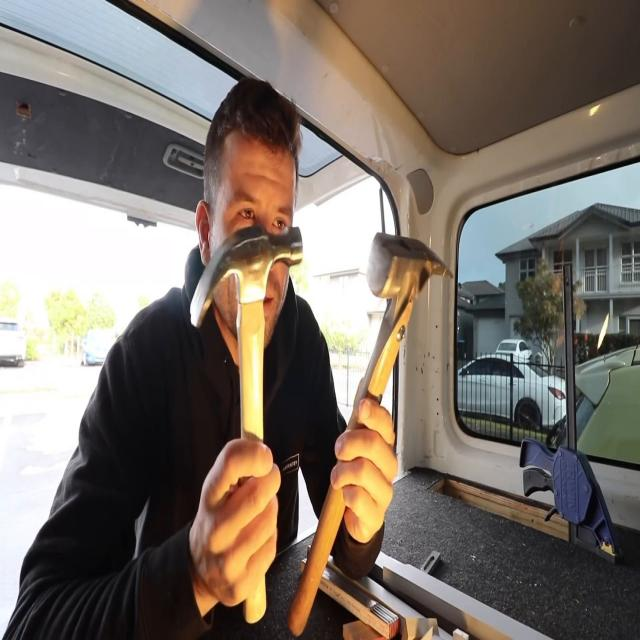hammer: (288, 232, 455, 636), (190, 225, 303, 627)
